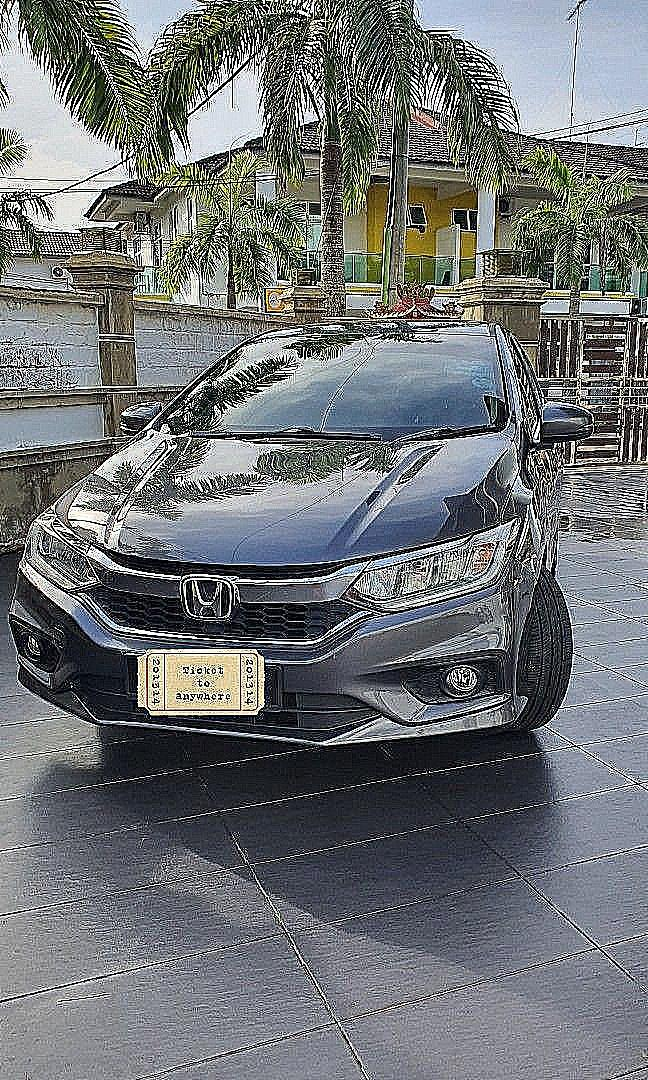Car hood: (45, 427, 539, 581)
Front bumper: (6, 562, 547, 756)
Headlight - -L-: (338, 517, 532, 614)
Headlight - -R-: (14, 495, 99, 591)
Side mirror - -L-: (527, 395, 593, 457)
Side mirror - -R-: (117, 395, 165, 439)
